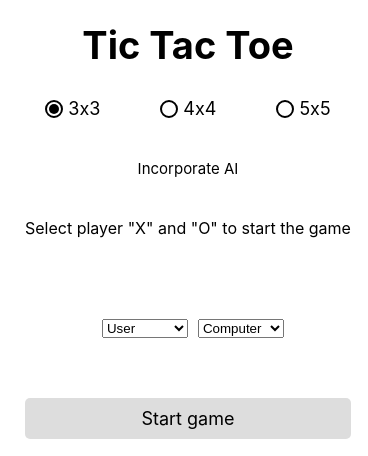
it: <Game /> › should simulate a winning game for the human .vs computer
Click the element with test id "startGameBtnTestId": {"x": 188, "y": 418} [25,398,351,439]
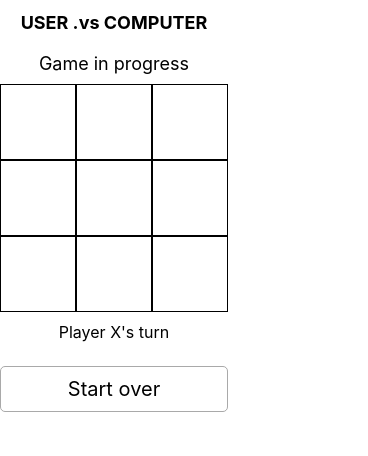
human's move
Click the element with test id "00": {"x": 38, "y": 122} [0,84,76,160]
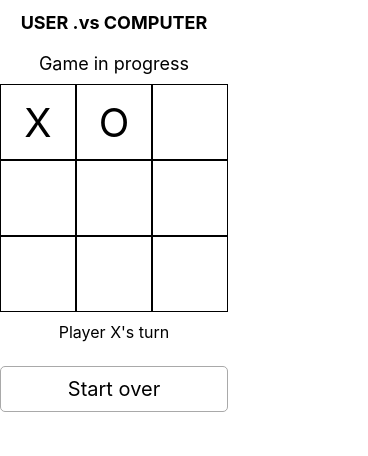
human's move
Click the element with test id "01": {"x": 38, "y": 198} [0,160,76,236]
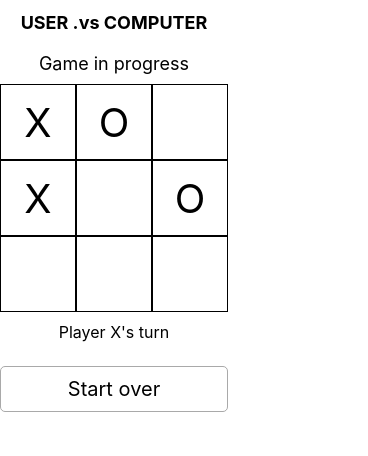
Click the element with test id "02": {"x": 38, "y": 274} [0,236,76,312]
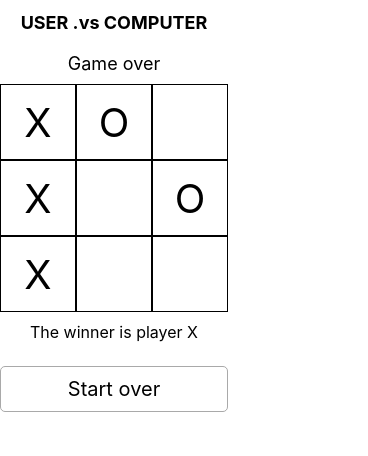
Expected: the text "Game over" is shown, [68,53,160,74]
Expected: the text "The winner is player X" is shown, [30,322,198,342]
